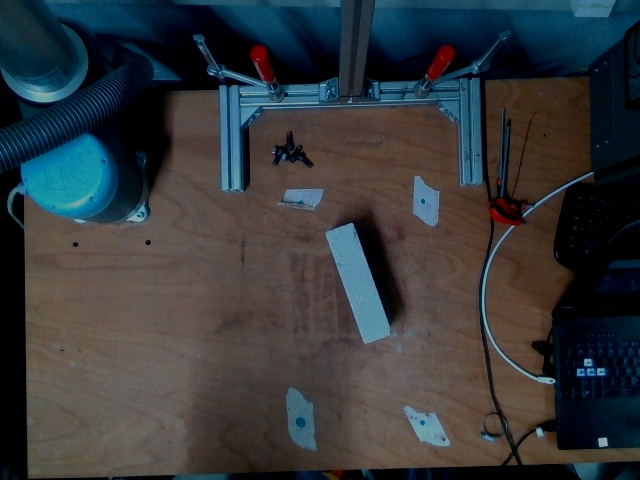brick-side: (325, 222, 390, 343)
